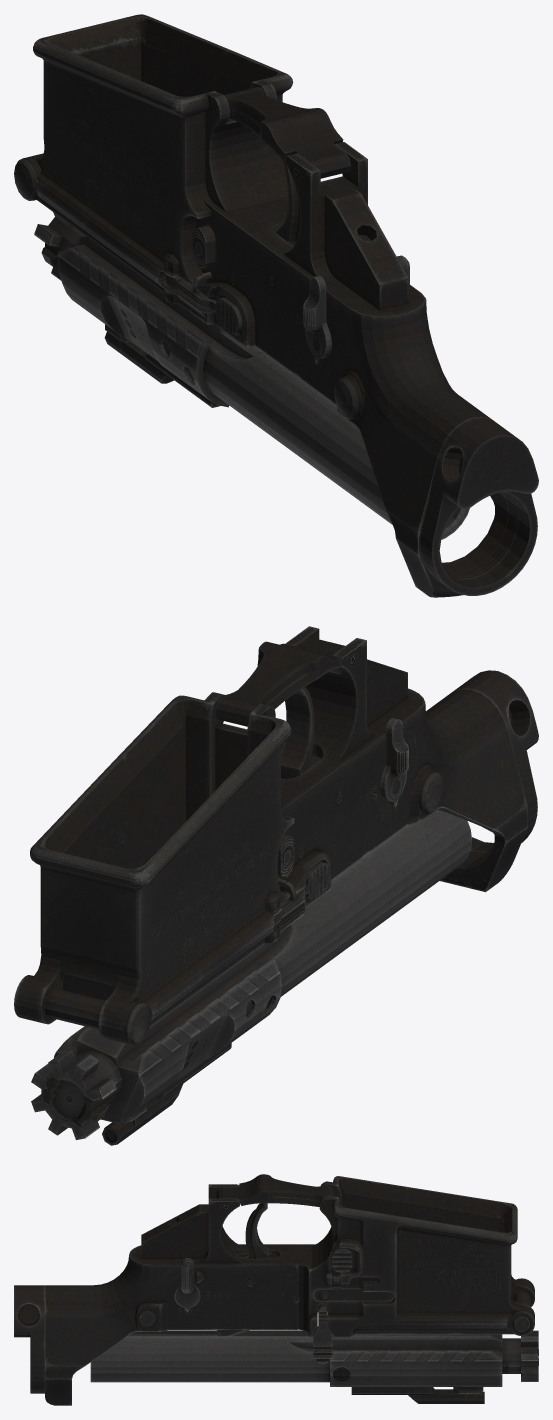
3 views of the same model, one above another, from view 1: azimuth 30°, elevation 25°; view 2: azimuth 150°, elevation 25°; view 3: azimuth 270°, elevation 25° (orthographic). The views are drawn at different scales.
Visible parts, largest first — view 1: TW_5df8ce05b11454561e39243b_PZ_Import; view 2: TW_5df8ce05b11454561e39243b_PZ_Import; view 3: TW_5df8ce05b11454561e39243b_PZ_Import.
Part boxes in pixels (x1,y1,x2,y2): TW_5df8ce05b11454561e39243b_PZ_Import: (14,14,538,597); TW_5df8ce05b11454561e39243b_PZ_Import: (14,626,538,1145); TW_5df8ce05b11454561e39243b_PZ_Import: (14,1174,538,1405).
Size of the model in its own units: 0.0246 by 0.1412 by 0.0655.
Materials: 1 (1 with a texture image).
